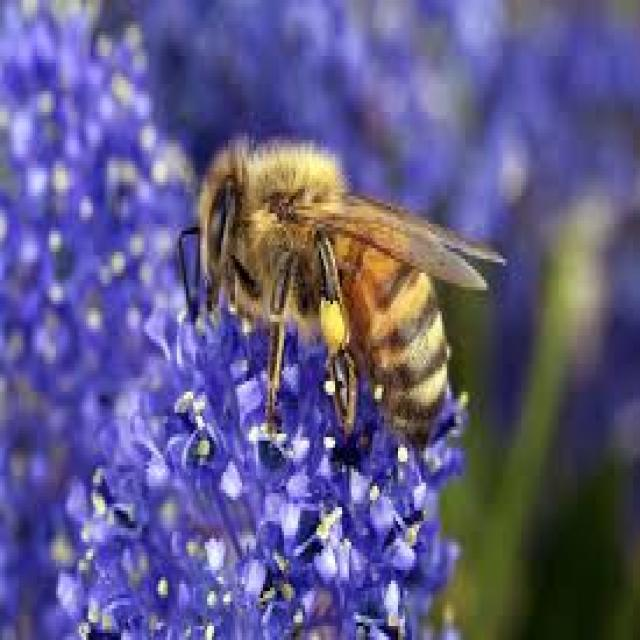Bees: (176, 134, 506, 474)
